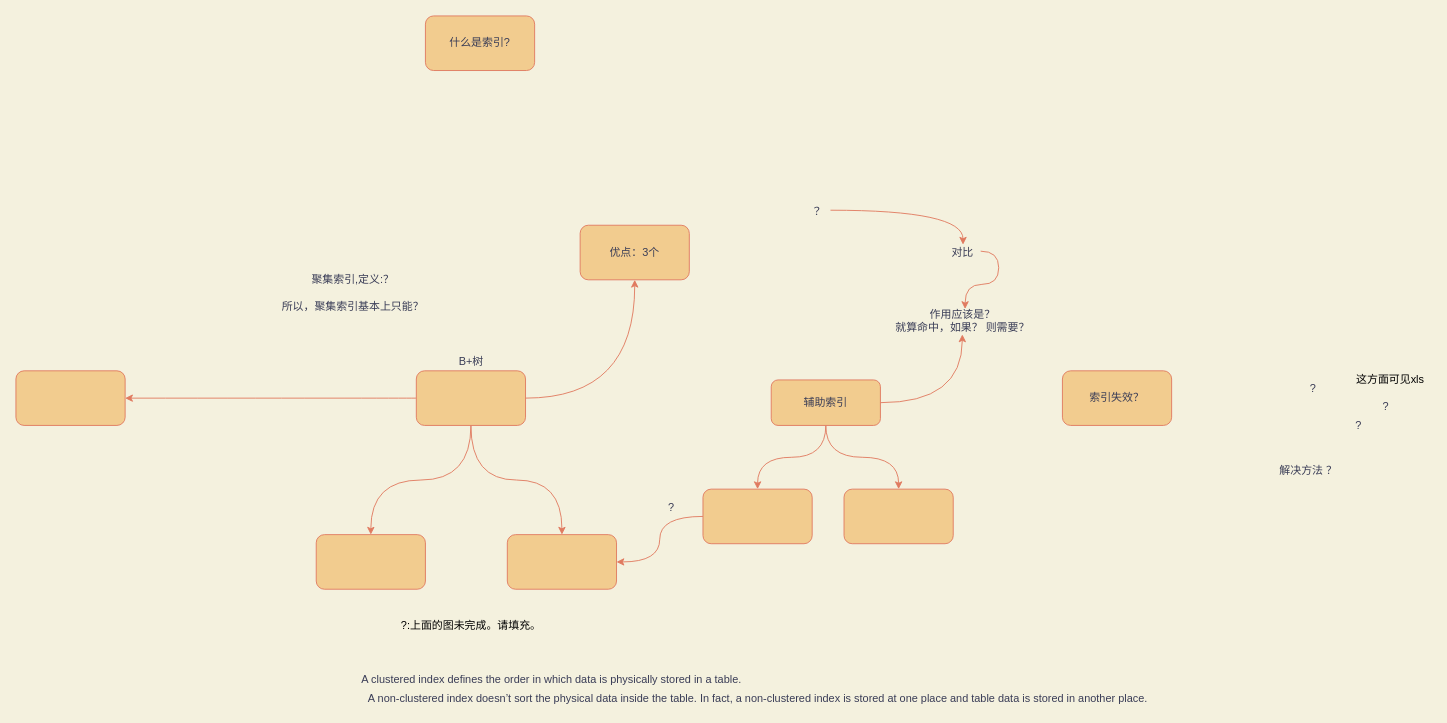
The diagram is 1447 pixels wide and 723 high, and some of its shapes have lost their labels. Each missing label, with the centre of its shape:
"叶子节点" goes at point 757,516.
"聚簇索引（根据？来创建B+树）" goes at point 470,397.
